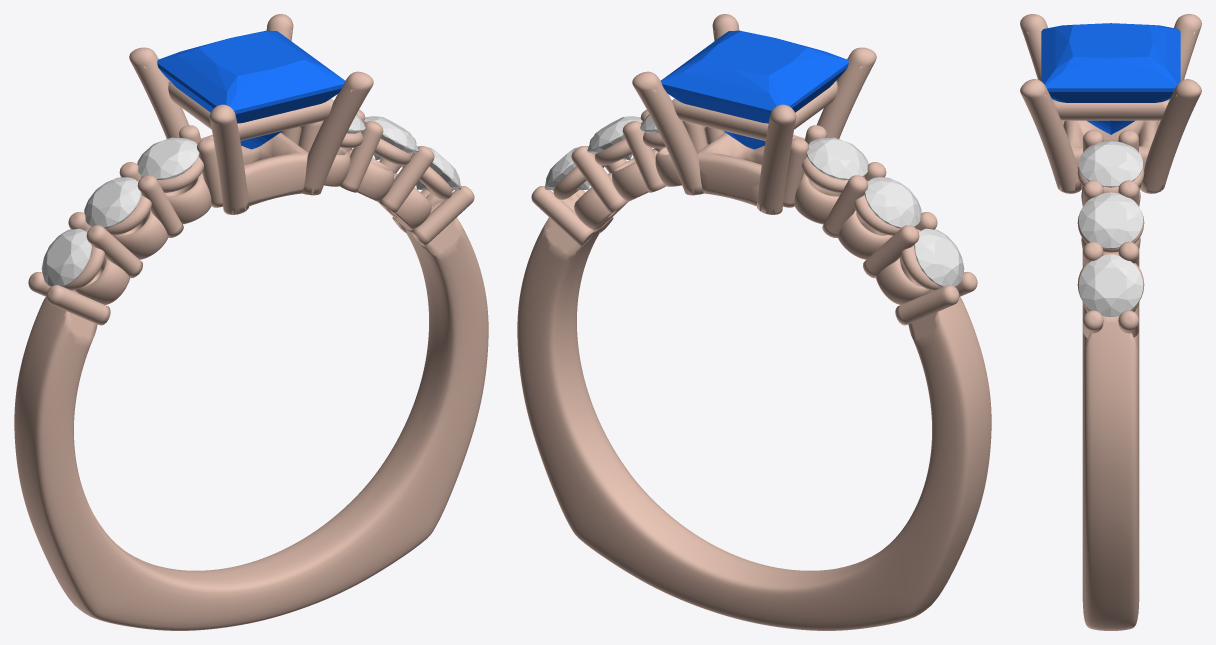
The model's file is bluesapphire-princess-rosegold-4prong-europeanshank-7stone.glb.
The picture shows the model from 3 angles, left to right: view 1: azimuth 30°, elevation 25°; view 2: azimuth 150°, elevation 25°; view 3: azimuth 270°, elevation 25°; orthographic projection.
Parts seen in each view (by area): view 1: metal, stone, side, side.001, side.002, side.004, side.005; view 2: metal, stone, side, side.001, side.002, side.004, side.005; view 3: metal, stone, side.005, side.004, side.003.
Part boxes in pixels (x1,y1,x2,y2): metal: [14, 14, 488, 630]; stone: [157, 30, 344, 149]; side: [41, 228, 91, 286]; side.001: [84, 177, 141, 228]; side.002: [137, 137, 199, 180]; side.004: [363, 116, 418, 160]; side.005: [416, 146, 461, 189]; metal: [517, 14, 991, 630]; stone: [661, 30, 848, 149]; side: [914, 228, 964, 286]; side.001: [864, 177, 921, 228]; side.002: [806, 137, 868, 180]; side.004: [587, 116, 642, 160]; side.005: [544, 146, 589, 189]; metal: [1020, 14, 1201, 630]; stone: [1041, 23, 1180, 134]; side.005: [1079, 254, 1142, 316]; side.004: [1079, 192, 1142, 248]; side.003: [1079, 141, 1142, 187].
Bounding box in the file's own units: 20.11 × 23.65 × 7.08.
